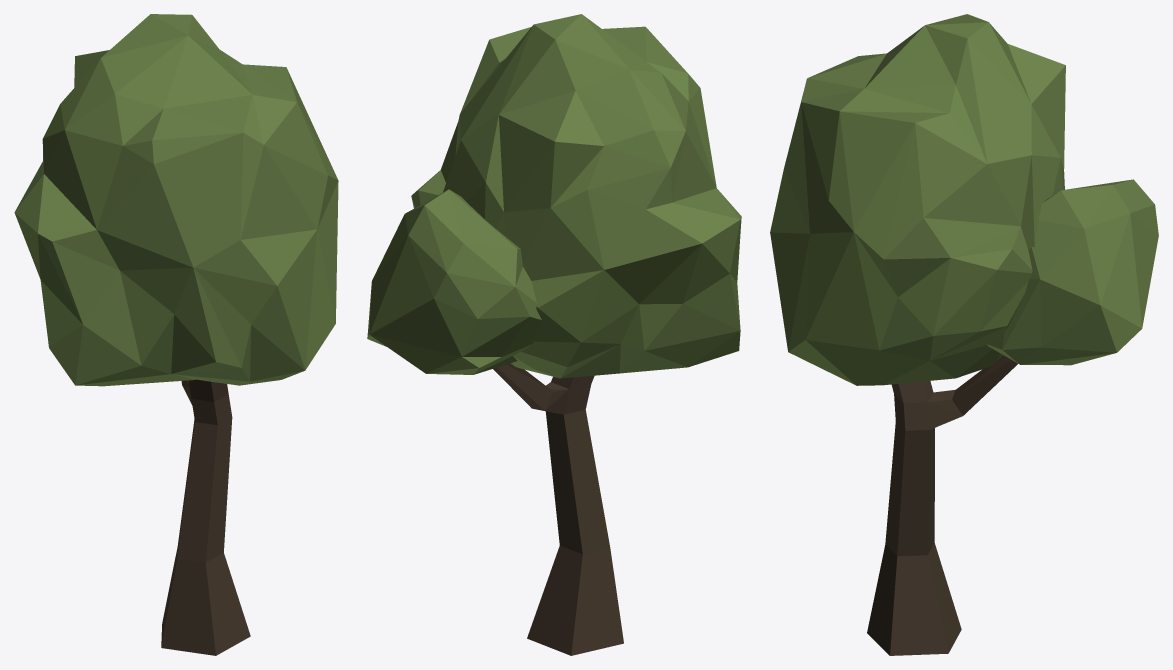
Rendered from Tree_14.gltf.
3 renders of one model, left to right at view 1: azimuth 30°, elevation 25°; view 2: azimuth 150°, elevation 25°; view 3: azimuth 270°, elevation 25°, orthographic. The views are drawn at different scales.
Parts seen in each view (by area): view 1: Tree_14; view 2: Tree_14; view 3: Tree_14.
Boxes of the visible parts, <box> form: Tree_14: <box>14,14,338,655</box>; Tree_14: <box>367,14,741,655</box>; Tree_14: <box>770,14,1158,655</box>.
Bounding box in the file's own units: 0.314 × 0.6569 × 0.3708.
1 material, 1 textured.
